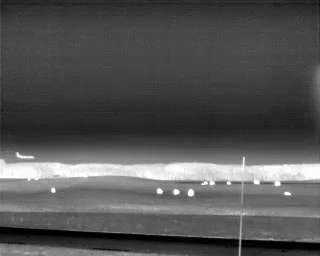AIRPLANE: (14, 150, 36, 161)
